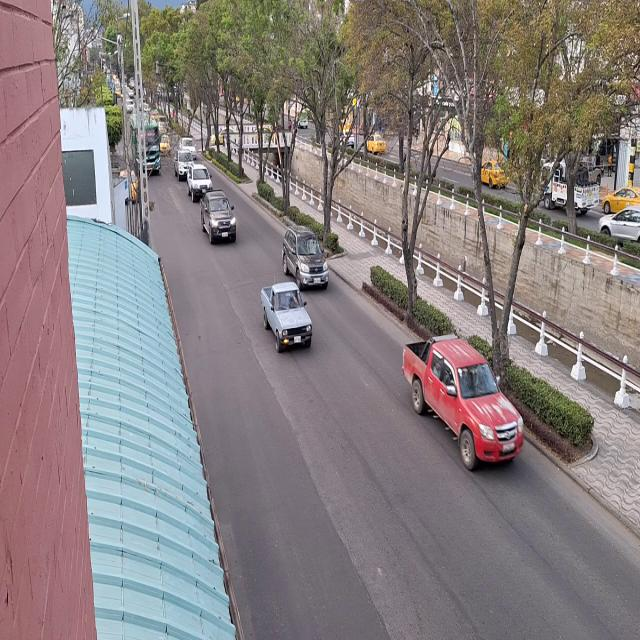BUS: (138, 121, 160, 175)
CMT: (406, 340, 526, 471), (262, 281, 313, 350), (199, 188, 237, 245)
SED: (186, 164, 213, 202)
SUV: (282, 225, 328, 287)
